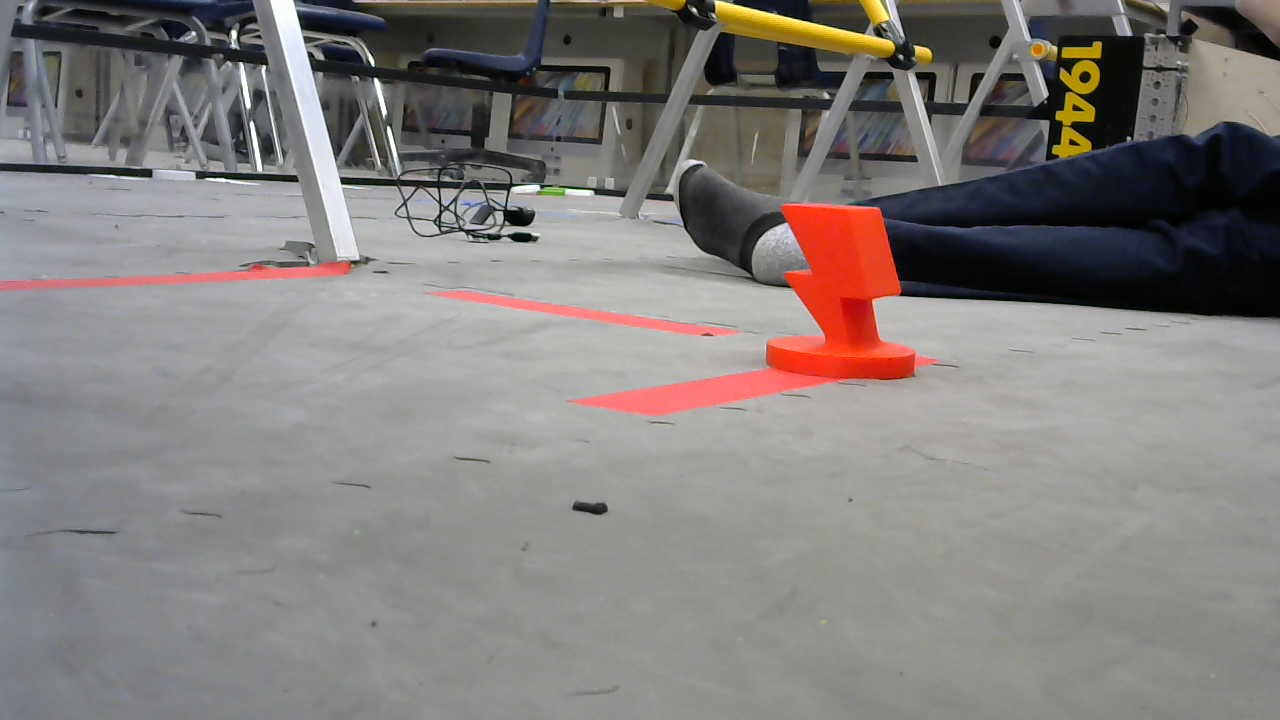redobject: (765, 200, 916, 380)
